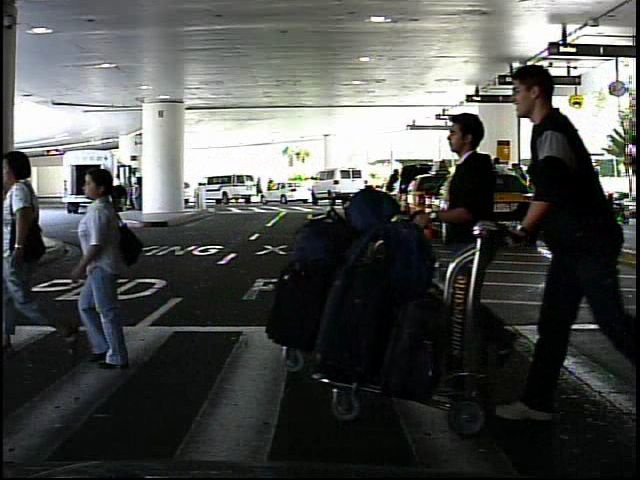person: (512, 49, 625, 426), (411, 106, 524, 394), (56, 157, 148, 382), (108, 171, 126, 221), (583, 171, 602, 217)
